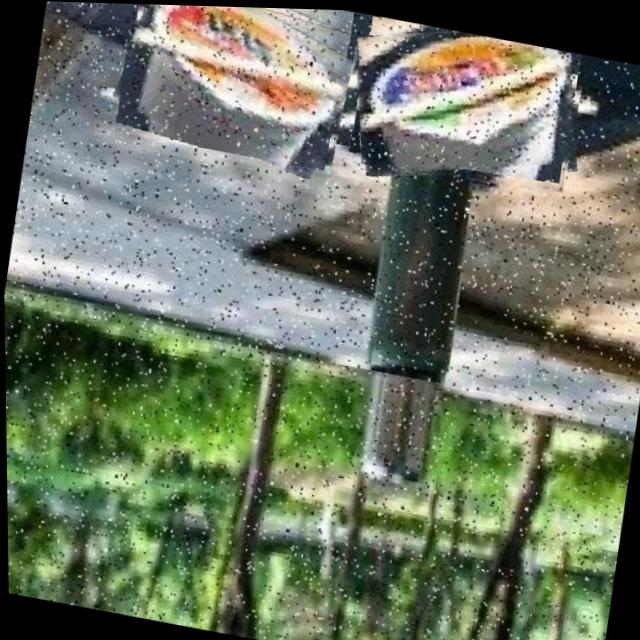Miscellaneous: (342, 12, 590, 200), (112, 2, 363, 172)
